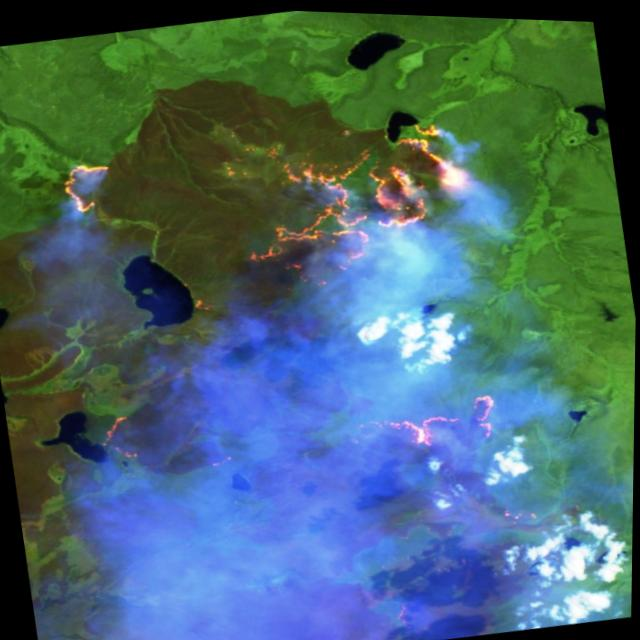fire: (32, 81, 523, 513)
